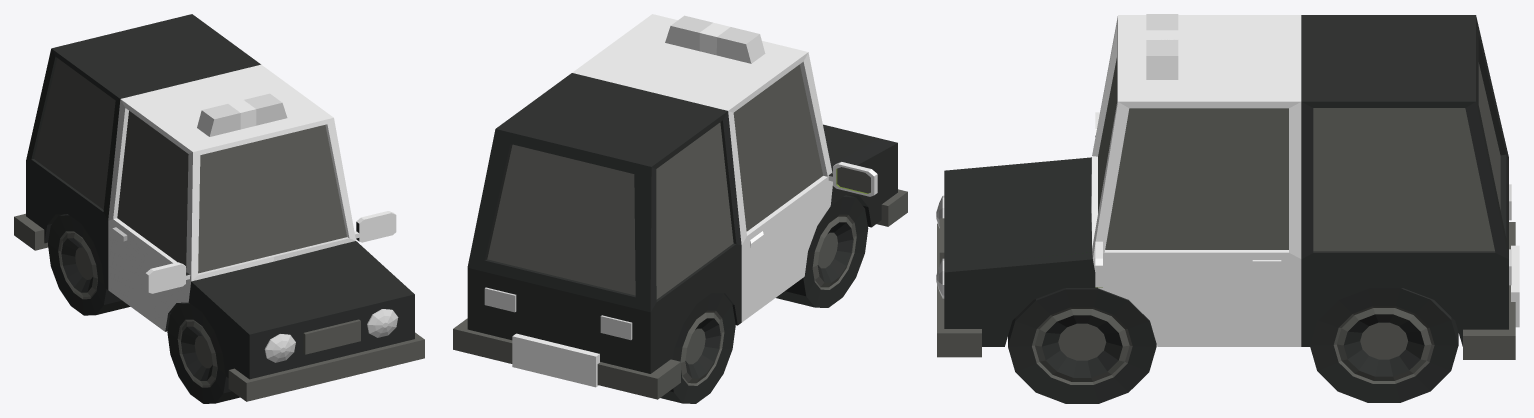
Rendered from mobiil polisi.fbx.
3 views of the same model, side by side, from view 1: azimuth 30°, elevation 25°; view 2: azimuth 150°, elevation 25°; view 3: azimuth 270°, elevation 25° (orthographic). The views are drawn at different scales.
Visible parts, largest first — view 1: lampu merah belakang.003; view 2: lampu merah belakang.003; view 3: lampu merah belakang.003.
Boxes of the visible parts, bbox=[...] form: lampu merah belakang.003: bbox=[14, 14, 424, 403]; lampu merah belakang.003: bbox=[453, 14, 907, 403]; lampu merah belakang.003: bbox=[936, 14, 1519, 403].
Bounding box in the file's own units: 1244 × 1203 × 2008.
Materials: 5 (1 with a texture image).
